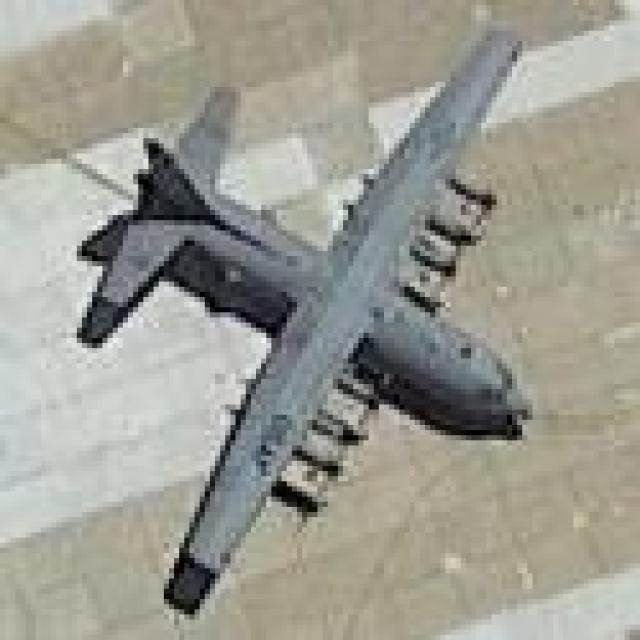C-130_TopDown: (68, 22, 538, 620)
